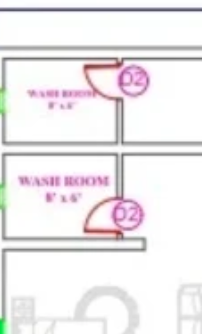door: (78, 189, 148, 237), (79, 57, 133, 102)
